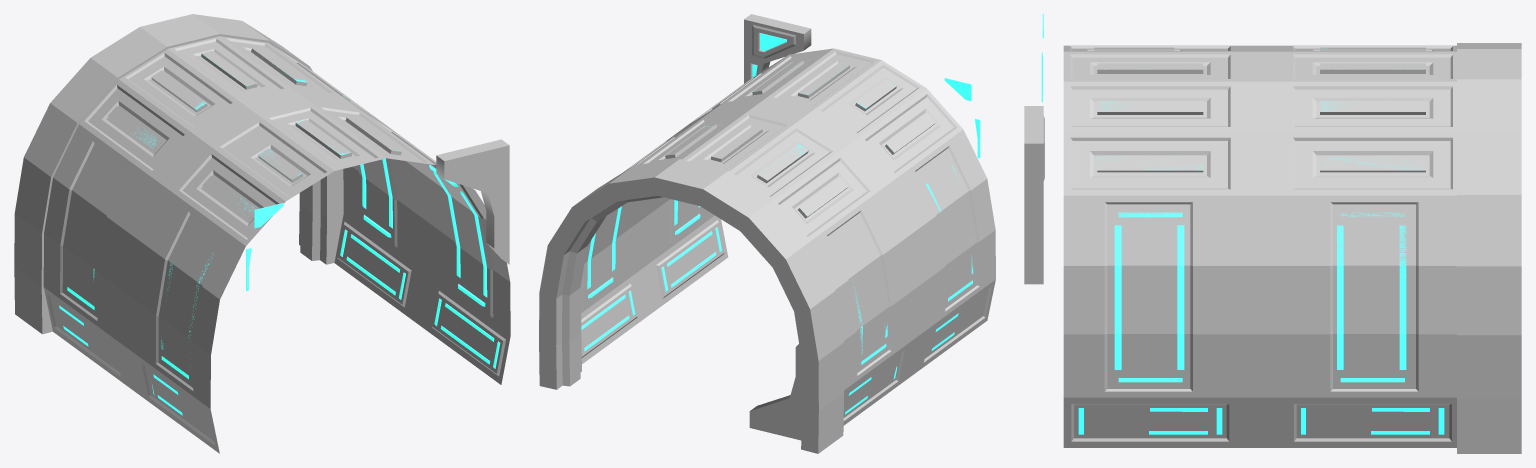
File: tunel.FBX
3 views of the same model, side by side, from view 1: azimuth 30°, elevation 25°; view 2: azimuth 150°, elevation 25°; view 3: azimuth 270°, elevation 25° (orthographic). The views are drawn at different scales.
Visible parts, largest first — view 1: Cylinder017, Cylinder018, Box012, Object010, Object016; view 2: Cylinder017, Cylinder018, Object010, Box012, Box011, Object016; view 3: Cylinder017, Cylinder018, Object010, Box012.
Part boxes in pixels (x1,y1,x2,y2): Cylinder017: (43,36,510,453); Cylinder018: (14,14,343,334); Box012: (436,139,509,264); Object010: (59,57,500,415); Object016: (246,203,283,290); Cylinder017: (581,48,995,425); Cylinder018: (539,159,843,453); Object010: (581,66,973,414); Box012: (744,14,811,83); Box011: (749,344,801,440); Object016: (752,33,980,158); Cylinder017: (1063,45,1456,447); Cylinder018: (1457,43,1521,453); Object010: (1078,48,1444,434); Box012: (1024,106,1044,284).
Size of the model in its own units: 360 by 291 by 432.
